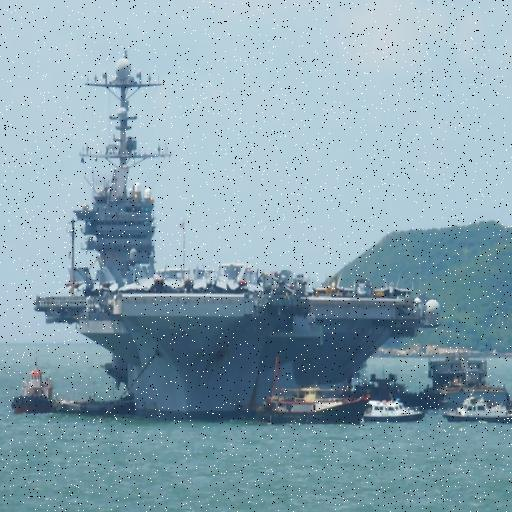Portanaves: (35, 49, 451, 418)
